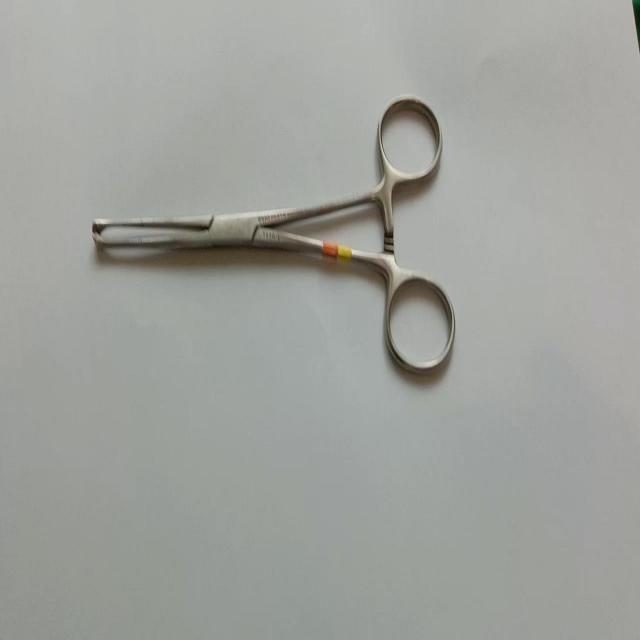AllisForcep: (88, 89, 459, 384)
